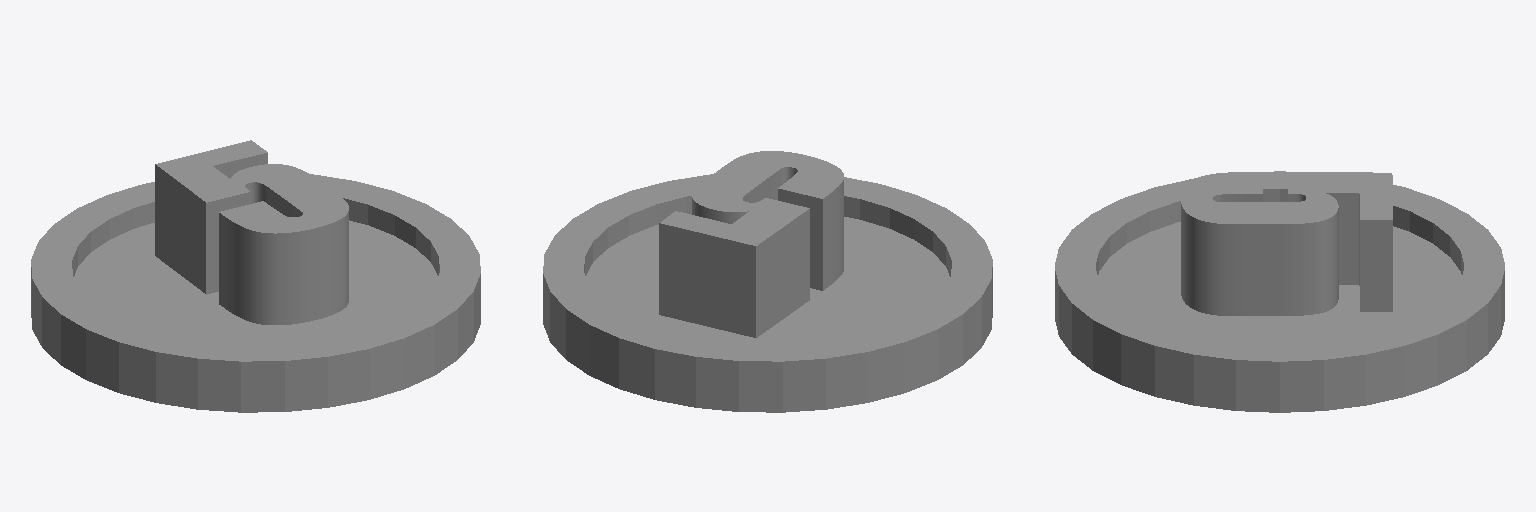
Rendered from elephant_piece.obj.
3 views of the same model, side by side, from view 1: azimuth 30°, elevation 25°; view 2: azimuth 150°, elevation 25°; view 3: azimuth 270°, elevation 25° (orthographic).
Parts seen in each view (by area): view 1: Cylinder; view 2: Cylinder; view 3: Cylinder.
Part boxes in pixels (x1,y1,x2,y2): Cylinder: (31,140,480,412); Cylinder: (543,151,992,412); Cylinder: (1055,171,1504,412).
Size of the model in its own units: 8 by 2.41 by 8.